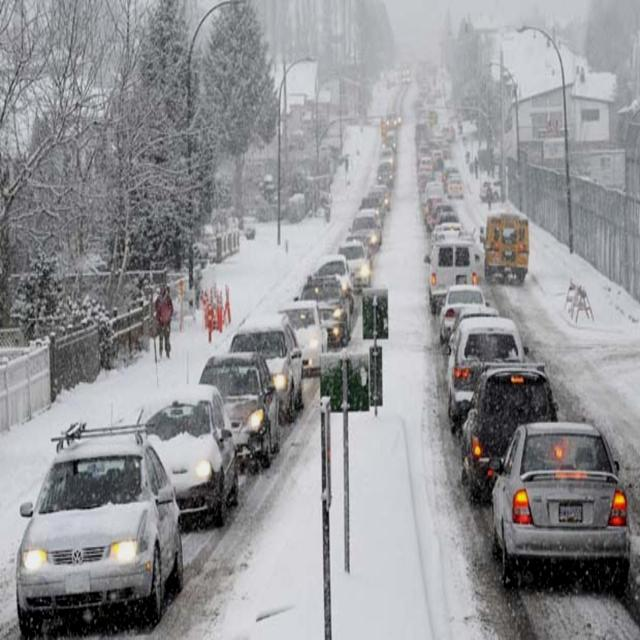Car: (14, 434, 182, 637), (492, 422, 634, 580), (133, 386, 237, 524), (460, 370, 559, 500), (205, 353, 278, 462), (447, 316, 528, 410), (235, 317, 305, 414), (278, 300, 327, 373)
Truck: (482, 215, 531, 283)
Van: (424, 238, 479, 311)
